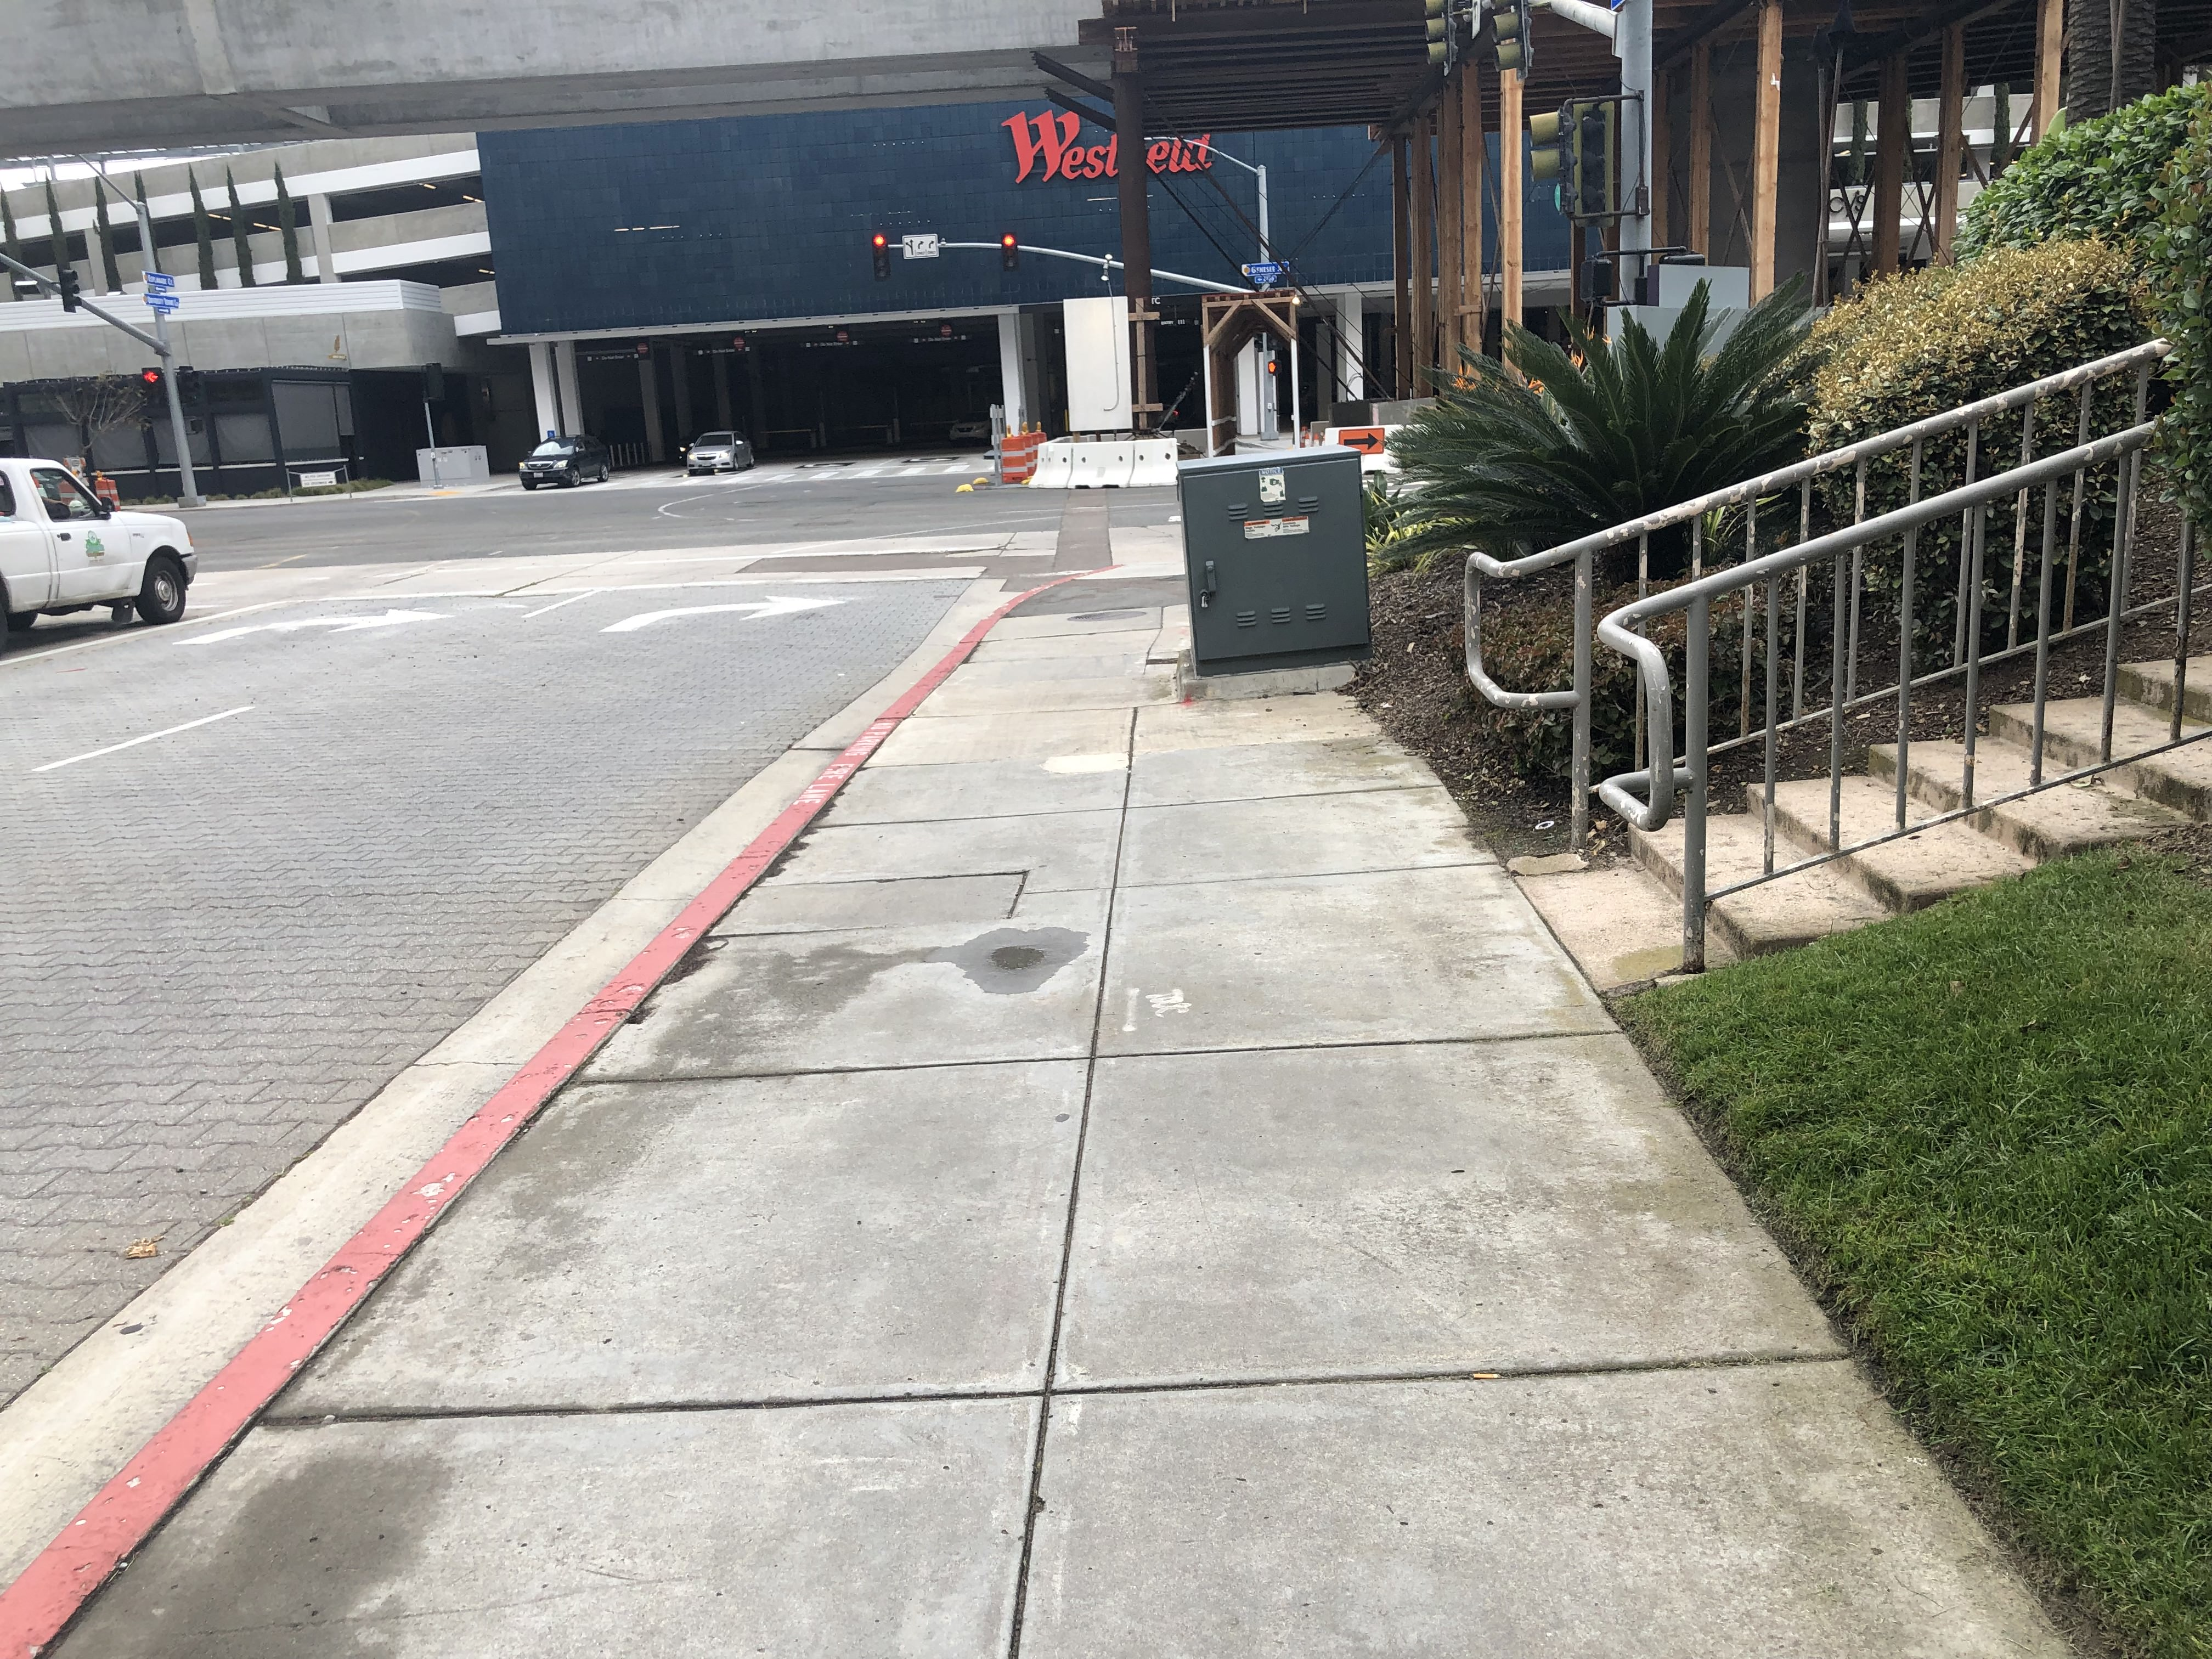Edge: (16, 572, 1028, 1645), (1350, 708, 2121, 1649)
Obstacle: (1158, 455, 1390, 694)
